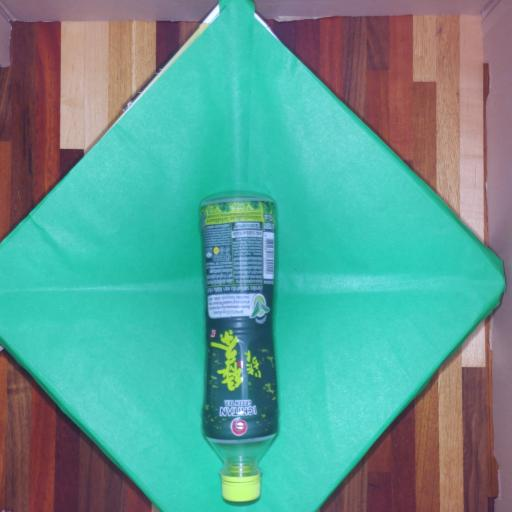bottle: (201, 197, 277, 501)
